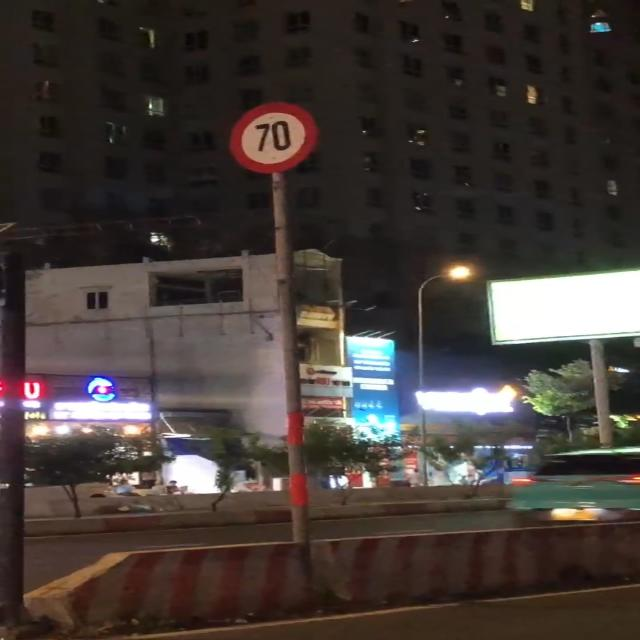Bien bao toc do toi da cho phep: (228, 96, 332, 180)
